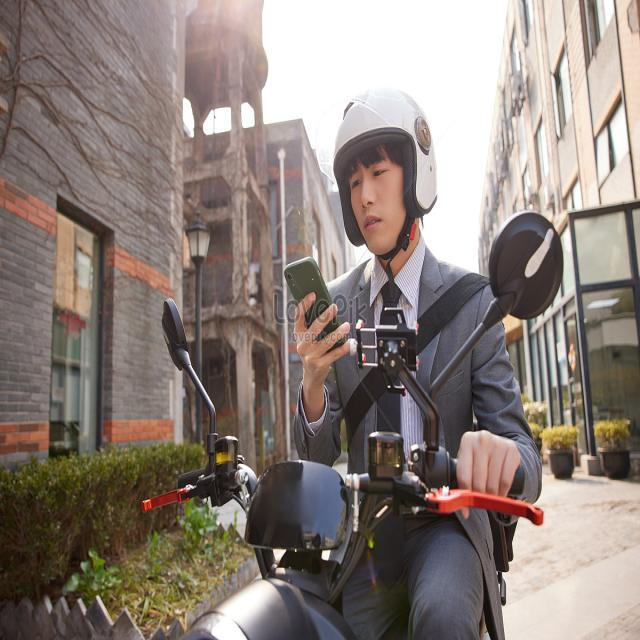USING_MOBILE: (284, 83, 450, 459)
